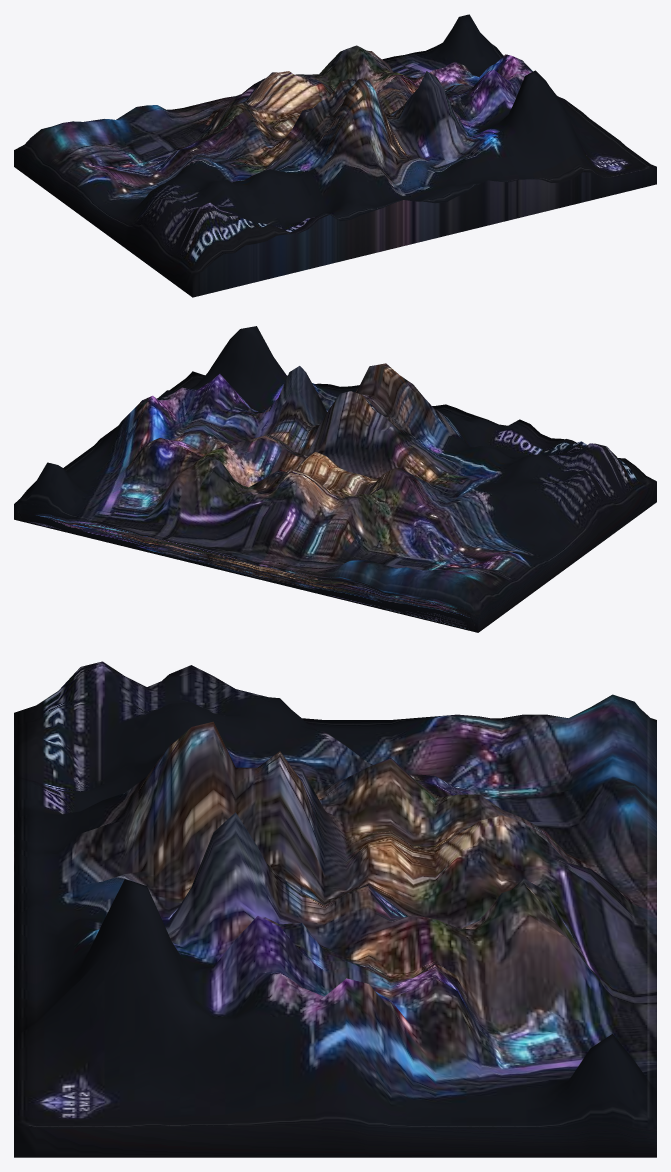
Rendered from HOUSING_02_House.glb.
The picture shows the model from 3 angles, top to bottom: view 1: azimuth 30°, elevation 25°; view 2: azimuth 150°, elevation 25°; view 3: azimuth 270°, elevation 25°; orthographic projection. The views are drawn at different scales.
Parts seen in each view (by area): view 1: HOUSING_02_House; view 2: HOUSING_02_House; view 3: HOUSING_02_House.
Part boxes in pixels (box(x1,y1,x2,y2)): HOUSING_02_House: box(14, 14, 656, 297); HOUSING_02_House: box(14, 326, 656, 632); HOUSING_02_House: box(14, 661, 656, 1157).
Bounding box in the file's own units: 2 × 0.51 × 1.33.
1 material, 1 textured.
